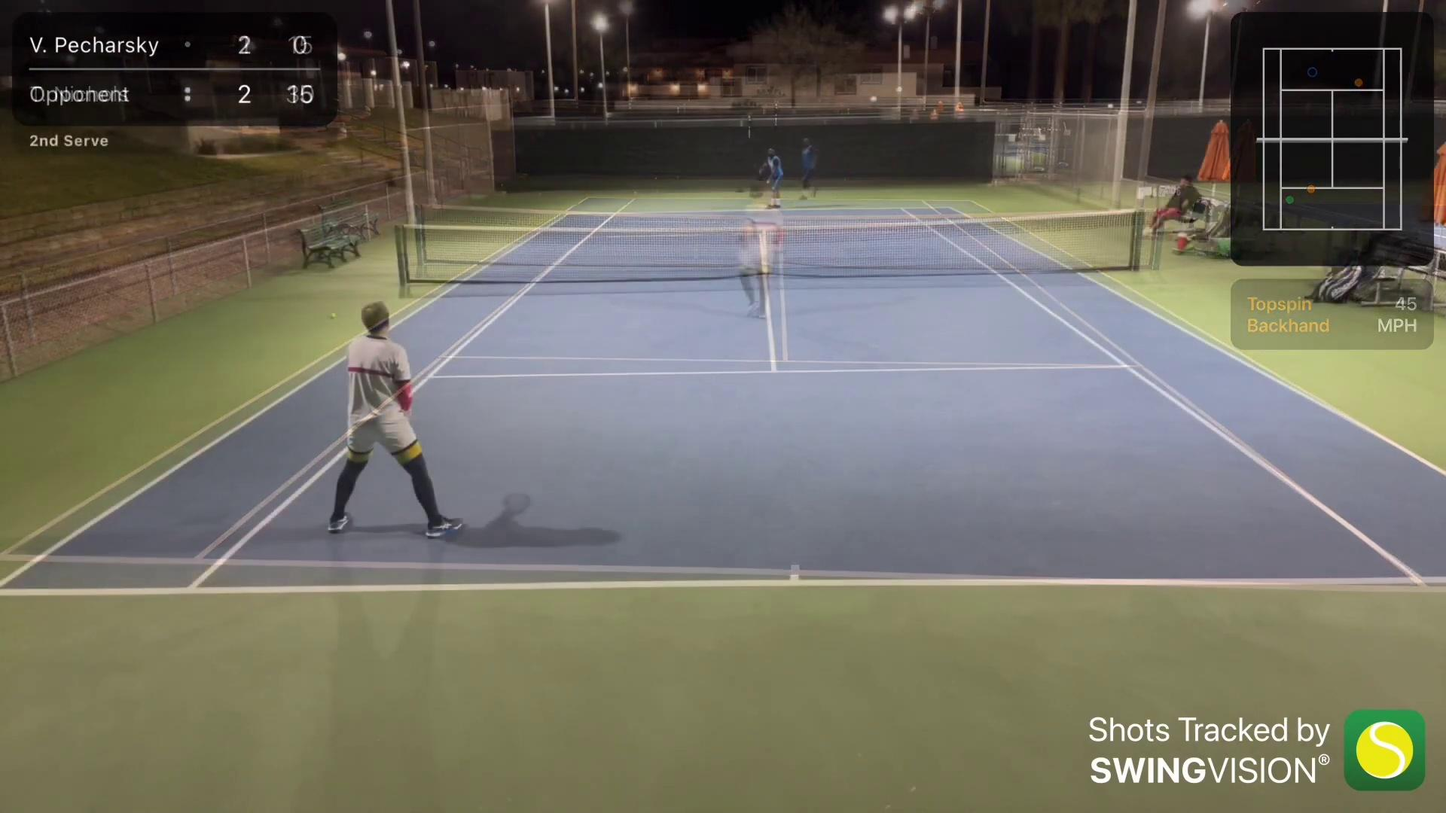ball: (326, 311, 341, 320), (764, 178, 772, 188)
